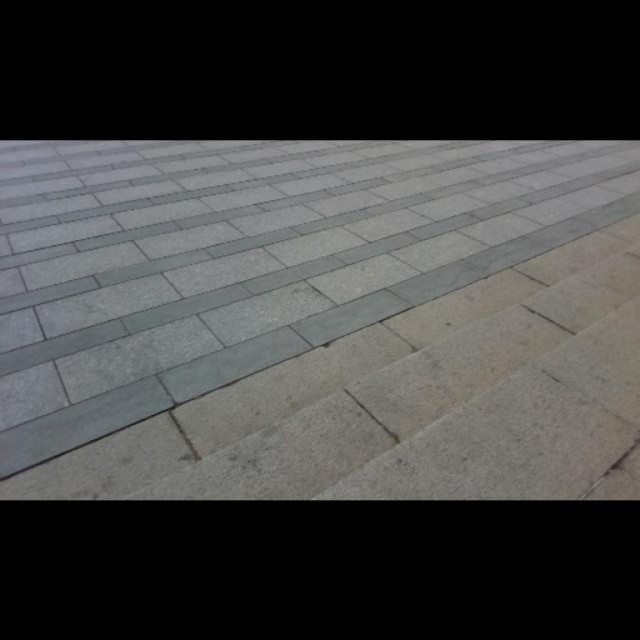stair: (206, 235, 632, 486)
